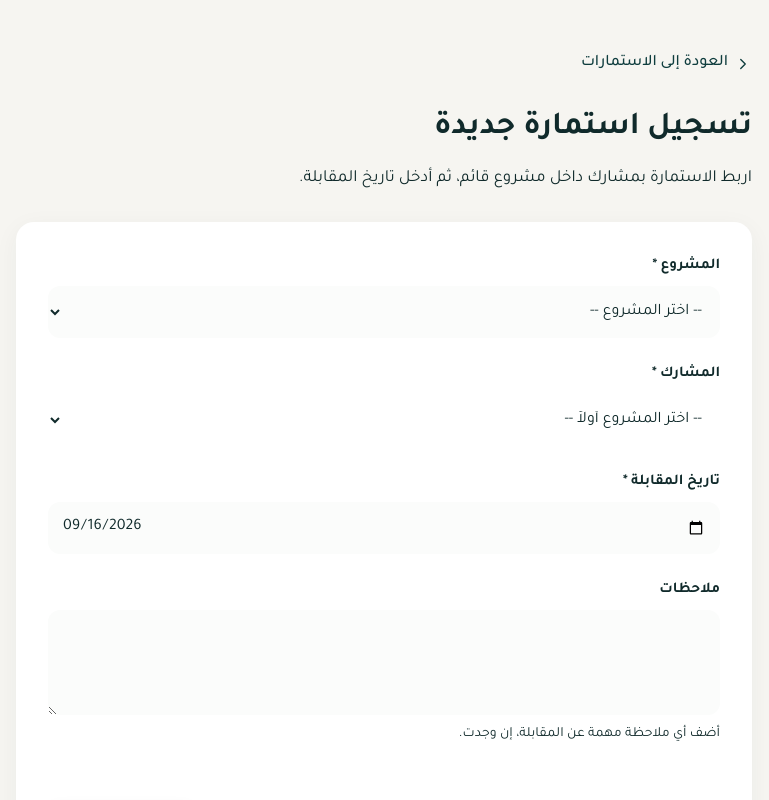
it: CreateResearchFormClient › keeps Participant disabled and Save disabled with the approved helper when the selected Project has no eligible participants
Select "مشروع بلا مشاركين (0 مشارك متاح)" in the dropdown labelled "المشروع *". click: (384, 312)
box: [48, 286, 720, 338]
(page scrolled)
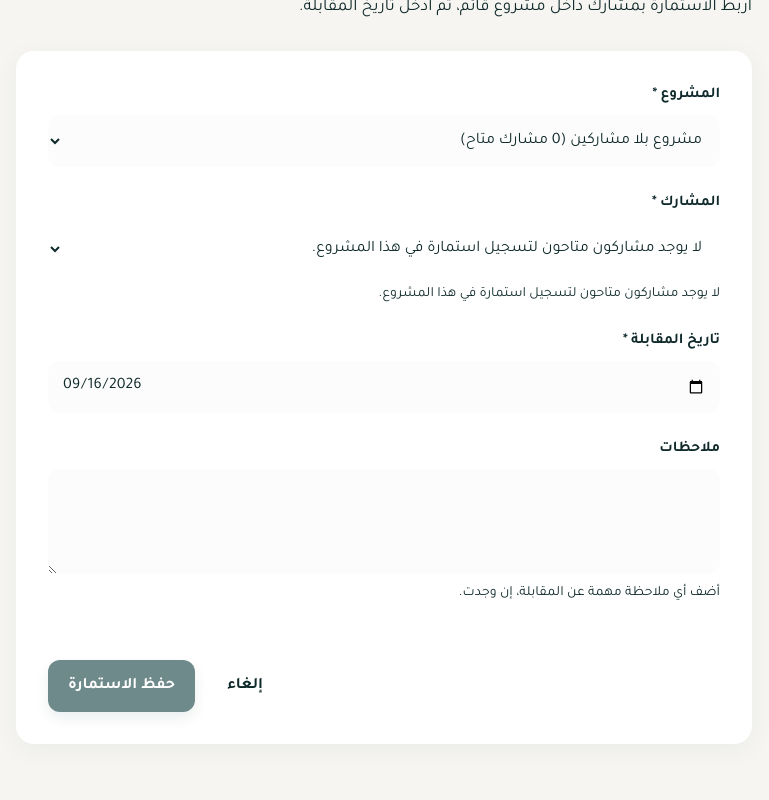
Expected: the dropdown labelled "المشارك *" is disabled, [48, 223, 720, 275]
Result: the text "لا يوجد مشاركون متاحون لتسجيل استمارة في هذا المشروع." is shown 2 times
